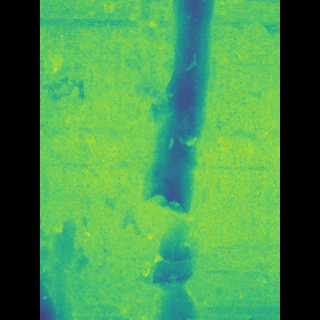Loch: (69, 0, 251, 320)
